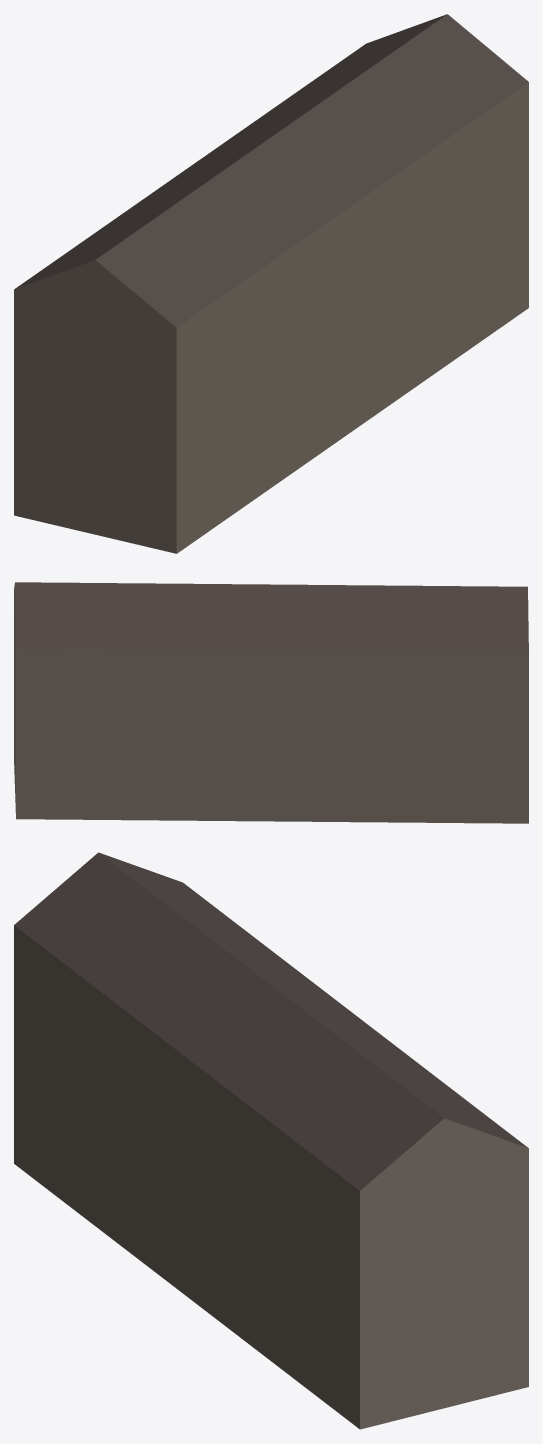
The picture shows the model from 3 angles, top to bottom: view 1: azimuth 30°, elevation 25°; view 2: azimuth 150°, elevation 25°; view 3: azimuth 270°, elevation 25°; orthographic projection. The views are drawn at different scales.
Visible parts, largest first — view 1: HP-w505643592; view 2: HP-w505643592; view 3: HP-w505643592.
Boxes of the visible parts, x1=… form: HP-w505643592: x1=14, y1=14, x2=528, y2=553; HP-w505643592: x1=14, y1=582, x2=528, y2=823; HP-w505643592: x1=14, y1=852, x2=528, y2=1429.
Size of the model in its own units: 24.96 by 10.94 by 17.61.
